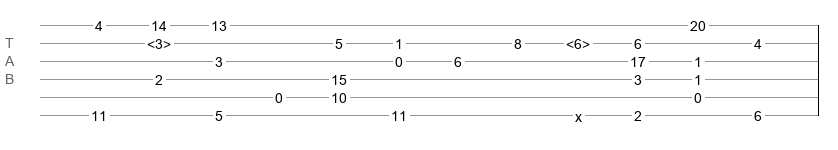0: (275, 90, 283, 100), (395, 54, 403, 64), (694, 90, 702, 100)
1: (395, 36, 403, 46), (694, 72, 702, 82), (694, 54, 702, 64)
10: (331, 90, 347, 100)
11: (91, 108, 107, 118), (391, 108, 407, 118)
13: (211, 18, 227, 28)
14: (151, 18, 167, 28)
15: (331, 72, 347, 82)
17: (630, 54, 646, 64)
2: (155, 72, 163, 82), (634, 108, 642, 118)
20: (690, 18, 706, 28)
3: (215, 54, 223, 64), (634, 72, 642, 82)
4: (95, 18, 103, 28), (754, 36, 762, 46)
5: (215, 108, 223, 118), (335, 36, 343, 46)
6: (454, 54, 462, 64), (634, 36, 642, 46), (754, 108, 762, 118)
8: (514, 36, 522, 46)
harmonic: (147, 36, 171, 46), (566, 36, 590, 46)
x: (575, 109, 582, 117)
